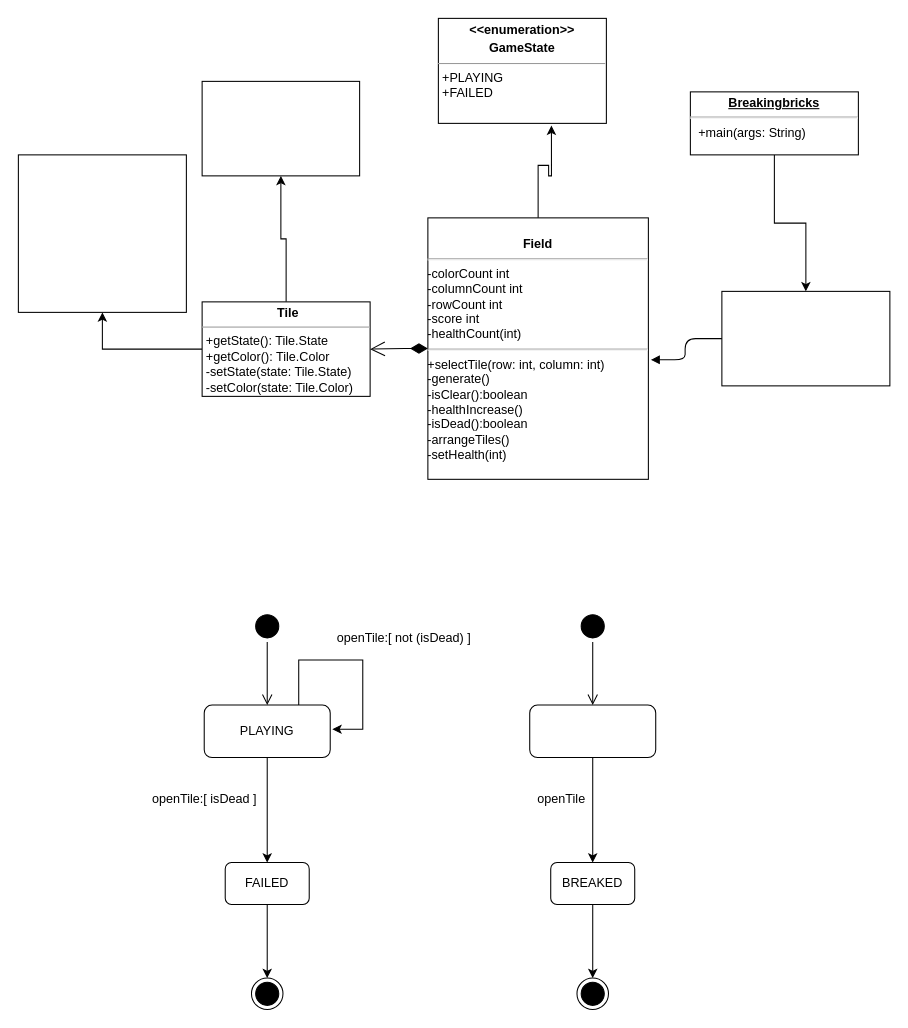
This 908x1028 diagram has some shape labels left out. The centre of each missing label's shape, as x and y in pixels:
"<<enumeration>> Tile.Color +RED +GREEN +BLUE +YELLOW +ORANGE +PINK" goes at point (101, 233).
"<<enumeration>> Tile.State +COLORED(some color) +BREAKED" goes at point (280, 128).
"COLORED" goes at point (592, 731).
"ConsoleUL +play(field: Field) +show() -readLine(): String -handleInput()" goes at point (805, 338).
